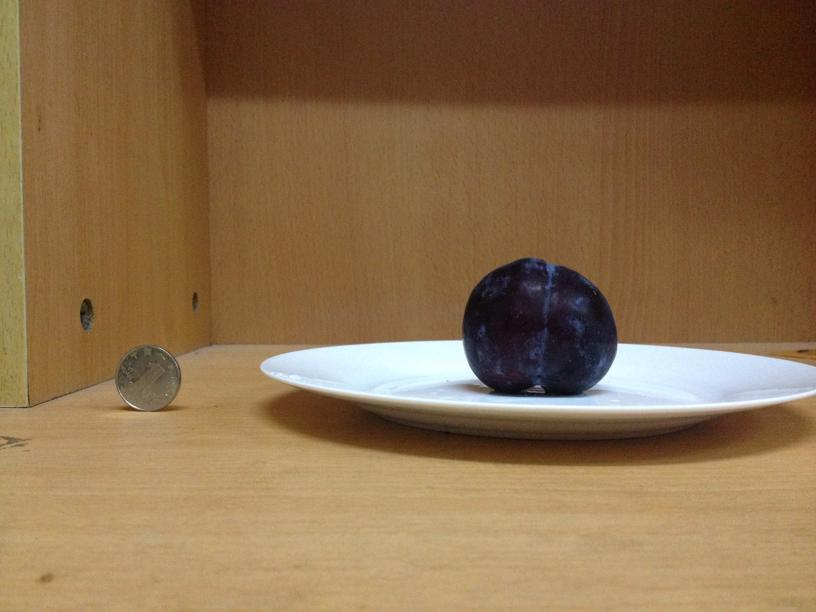coin: (114, 345, 182, 411)
plum: (462, 256, 619, 400)
